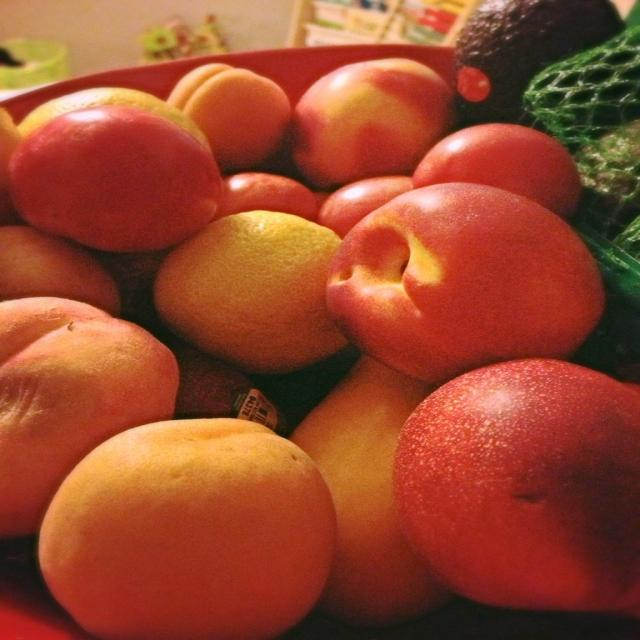Peach: (0, 57, 639, 639)
